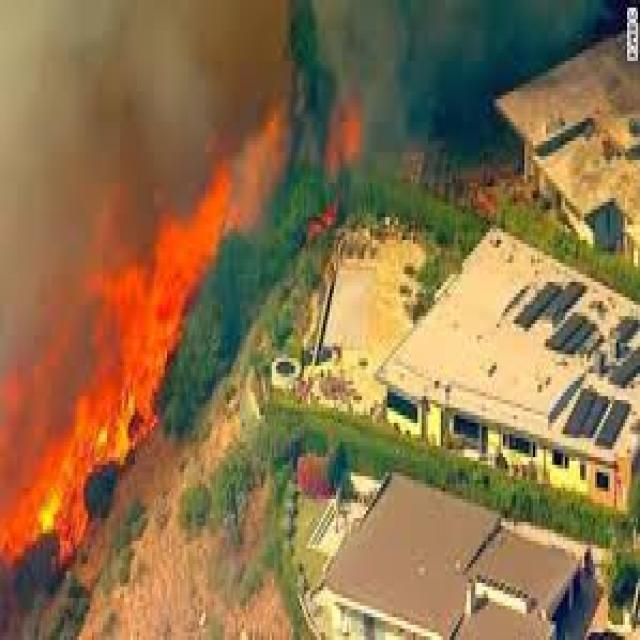Fire: (0, 358, 173, 576), (97, 161, 235, 359)
Smoke: (137, 0, 289, 158), (0, 0, 136, 156), (0, 154, 96, 354)
